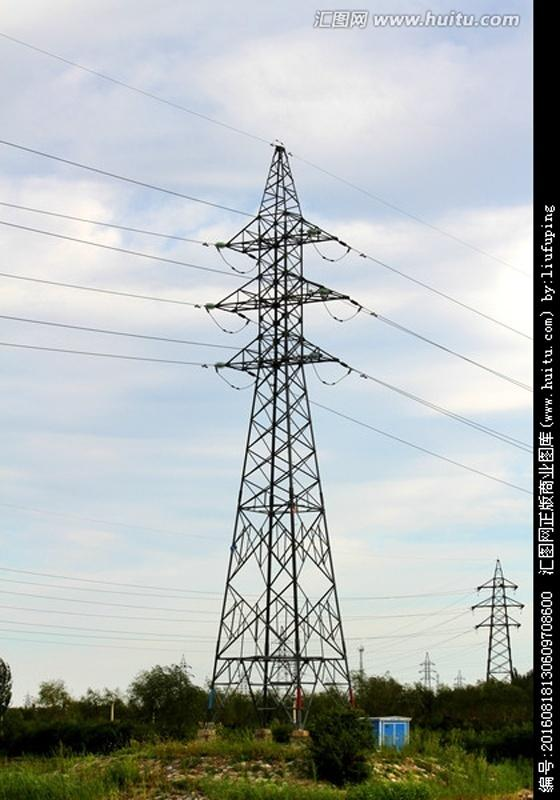power_tower: (195, 130, 354, 694), (470, 559, 526, 683)
